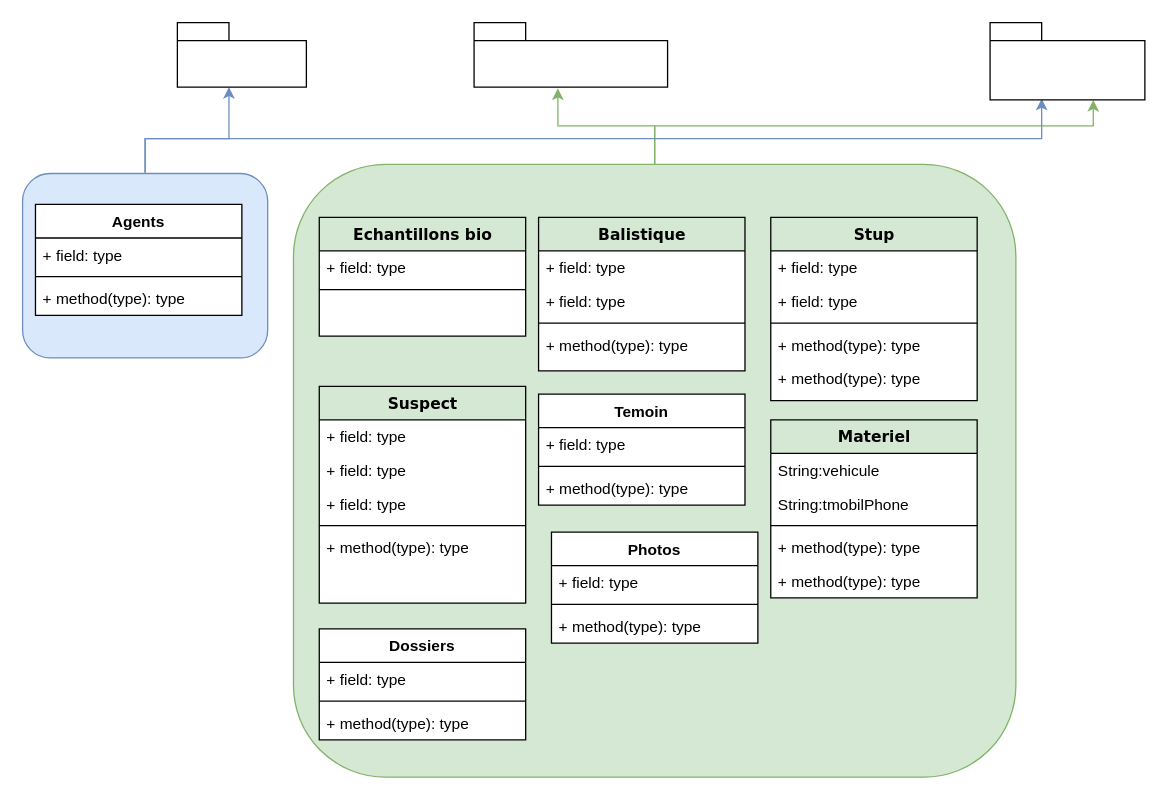
Image size: 1167x800. Some labels were removed from this diagram. The centre of each missing label's shape, as x and y in pixels:
"Consultation" belongs at point 1067,60.
"Gestion d'équipe" belongs at point 241,54.
"Gestion éléments" belongs at point 570,54.
